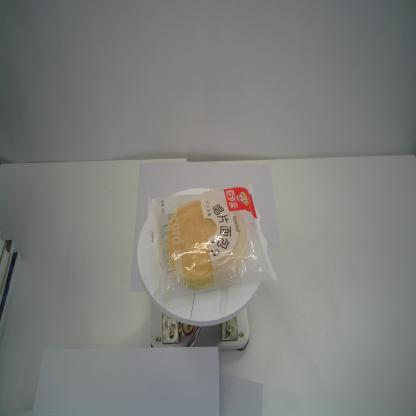Dessert: (142, 179, 279, 305)
